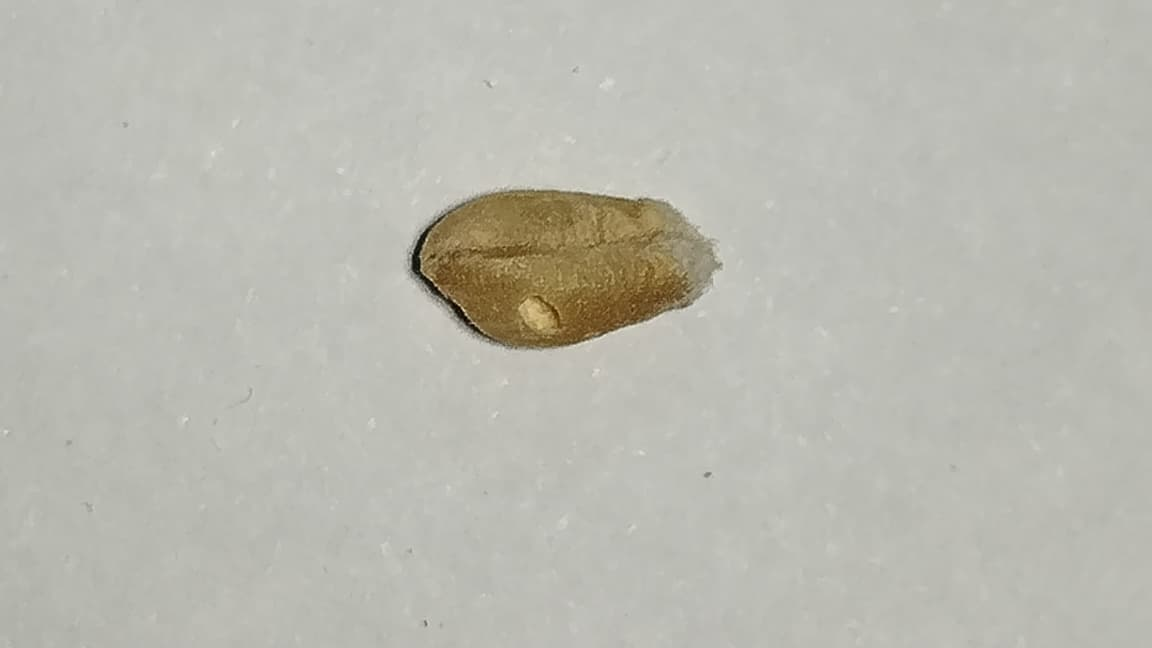damage: (420, 188, 713, 342)
insectdamage: (494, 270, 583, 347)
